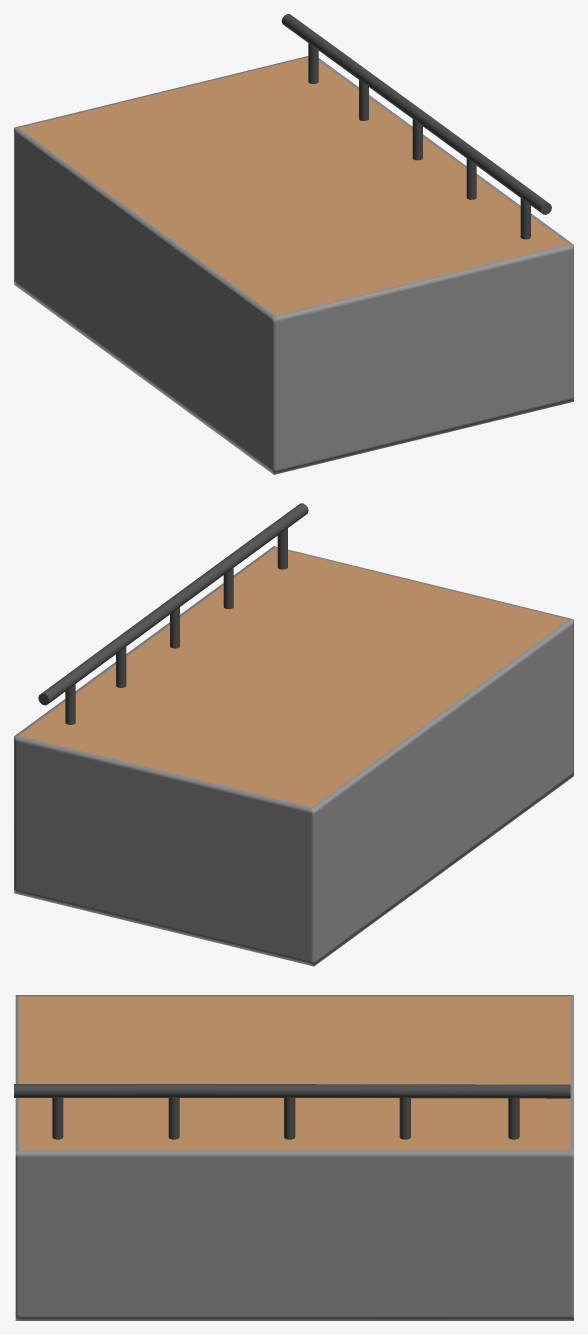
Rendered from small_flat.glb.
3 renders of one model, top to bottom at view 1: azimuth 30°, elevation 25°; view 2: azimuth 150°, elevation 25°; view 3: azimuth 270°, elevation 25°, orthographic. The views are drawn at different scales.
Parts seen in each view (by area): view 1: Cube.039; view 2: Cube.039; view 3: Cube.039.
Part boxes in pixels (x1=…): Cube.039: x1=14, y1=14, x2=573, y2=474; Cube.039: x1=14, y1=503, x2=573, y2=966; Cube.039: x1=14, y1=995, x2=573, y2=1320.
Size of the model in its own units: 10 by 6.56 by 15.04.
